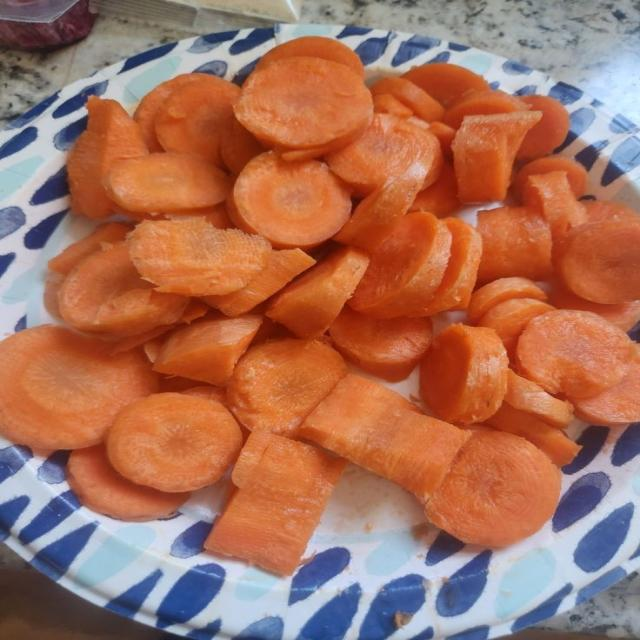carrot: (300, 374, 469, 502), (205, 434, 345, 575), (0, 325, 157, 449), (427, 431, 560, 546), (107, 393, 241, 491), (235, 57, 373, 149), (59, 243, 188, 337), (229, 153, 351, 248), (227, 339, 346, 436), (129, 218, 271, 296), (349, 212, 452, 318), (517, 310, 634, 398), (67, 96, 147, 219), (327, 114, 442, 197), (67, 445, 190, 521), (266, 248, 369, 338), (420, 324, 508, 423), (334, 162, 426, 252), (452, 111, 540, 202), (155, 75, 240, 167), (330, 306, 432, 381), (203, 249, 315, 317), (154, 315, 261, 386), (106, 153, 230, 212), (554, 218, 639, 304), (487, 402, 580, 466), (134, 73, 207, 152), (477, 207, 552, 283), (427, 218, 482, 314), (113, 299, 210, 352), (477, 299, 554, 359), (549, 281, 639, 332), (573, 357, 639, 426), (48, 223, 132, 275), (255, 36, 364, 76), (523, 171, 586, 239), (505, 370, 573, 428), (403, 63, 490, 107), (274, 122, 368, 161), (467, 278, 546, 324), (511, 156, 586, 202), (517, 95, 569, 161), (442, 90, 528, 129), (371, 77, 444, 122), (274, 128, 365, 161), (410, 162, 460, 217), (232, 432, 280, 487), (220, 117, 264, 174), (147, 203, 233, 228), (112, 325, 175, 353), (250, 317, 293, 346), (581, 201, 639, 222), (429, 121, 455, 161), (113, 203, 163, 222), (43, 273, 64, 318), (374, 94, 413, 118), (181, 386, 226, 406), (179, 299, 209, 324), (159, 376, 199, 393), (143, 337, 163, 363)
